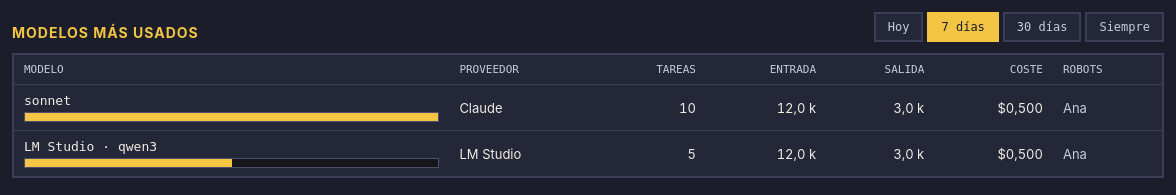
Test: Modelos más usados › pide stats.models, nombra legible conn:<id>/<modelo> y cambia de rango
The image size is (1176, 195).
Expected: the text "LM Studio · qwen3" is shown, [24,139,157,154]
Step 1. Click the button "Hoy" → {"x": 899, "y": 26}, box [874,12,924,42]
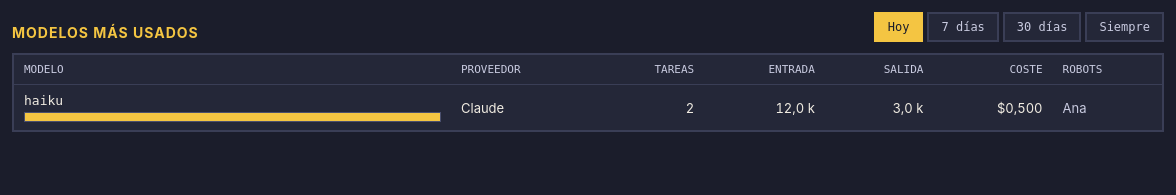
Expected: the text "haiku" is shown, [24,93,63,108]
Expected: the text "LM Studio · qwen3" is gone
